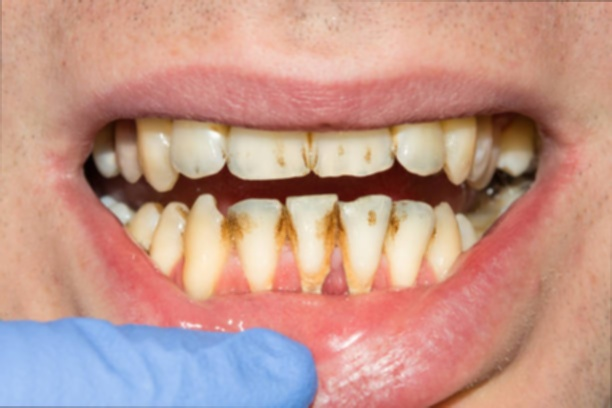Caries: (311, 200, 358, 262), (267, 202, 310, 258), (207, 206, 251, 258), (380, 198, 408, 249), (176, 200, 197, 255)
